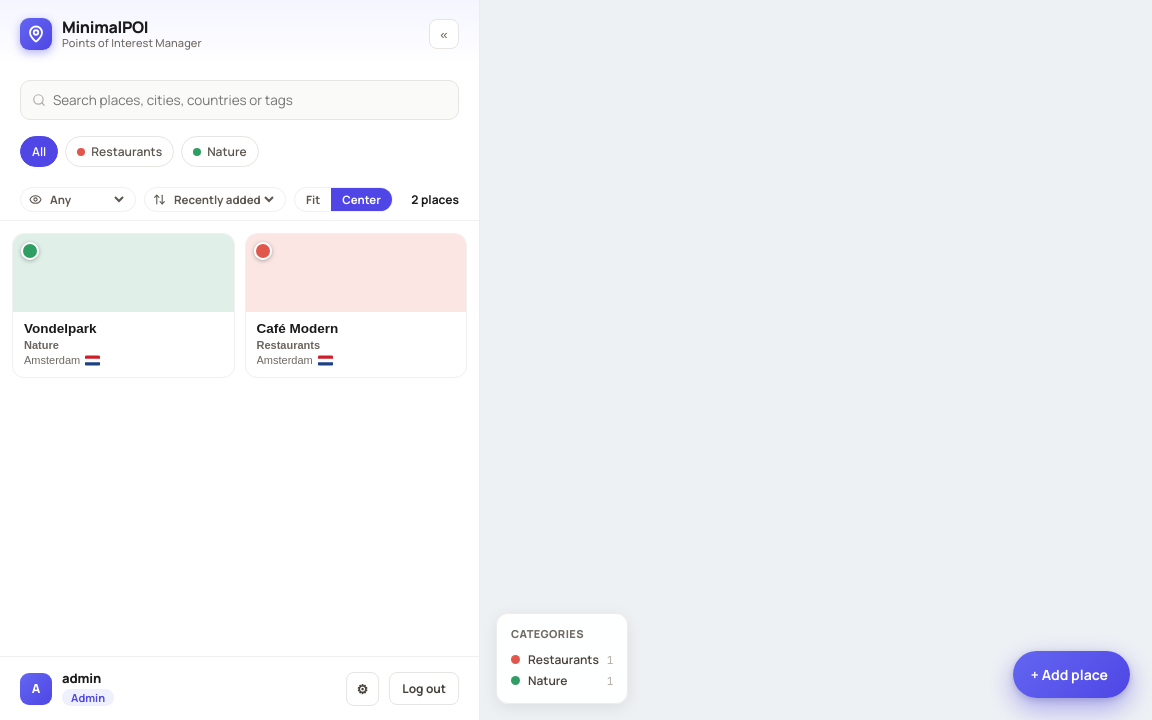
Scenario: AppShell › category chip filters the list
The image size is (1152, 720).
Expected: the text "Café Modern" is shown, x1=256 y1=321 x2=338 y2=336
Note: Filter chip for Nature has aria-pressed attribute (to distinguish from POI card category names)
What coordinates should you click on to do the following:
click the button "Nature"
I would click on:
 (220, 152)
Its box is x1=181 y1=136 x2=259 y2=167.
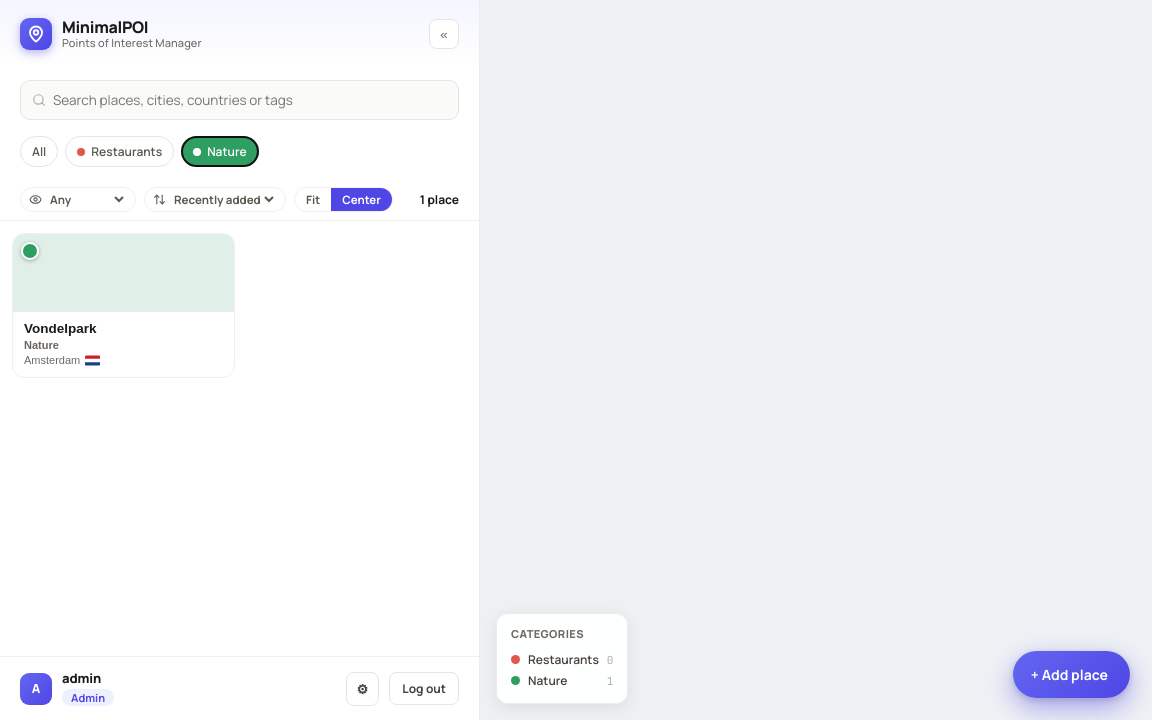
Expected: the text "Vondelpark" is shown, x1=24 y1=321 x2=96 y2=336
Expected: the button "Café Modern" is gone
